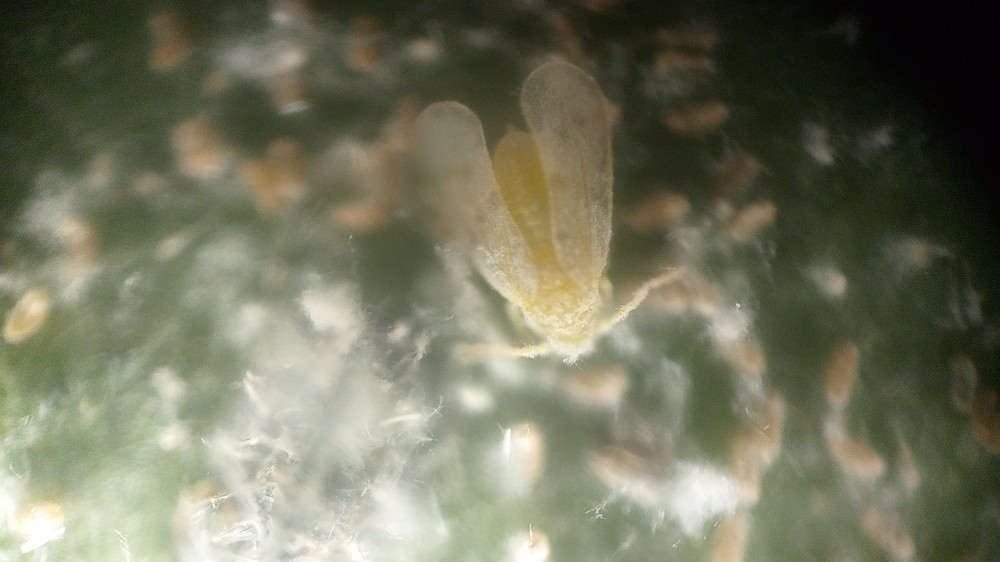Mosca Blanca: (385, 53, 695, 388)
